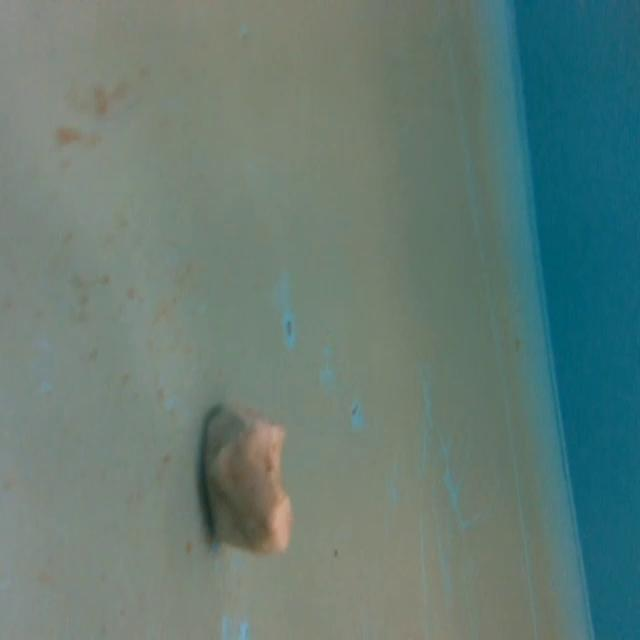rock: (201, 396, 297, 560)
